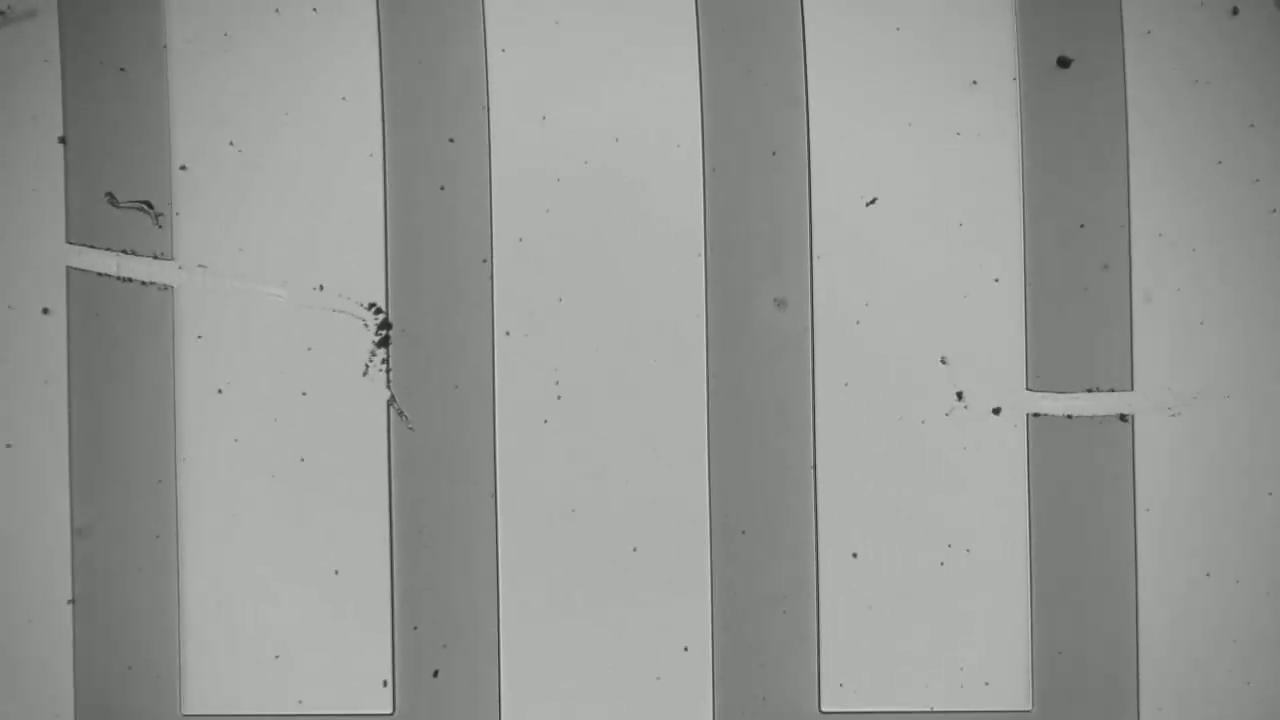Short_circuit: (995, 364, 1169, 447), (45, 218, 195, 311)
